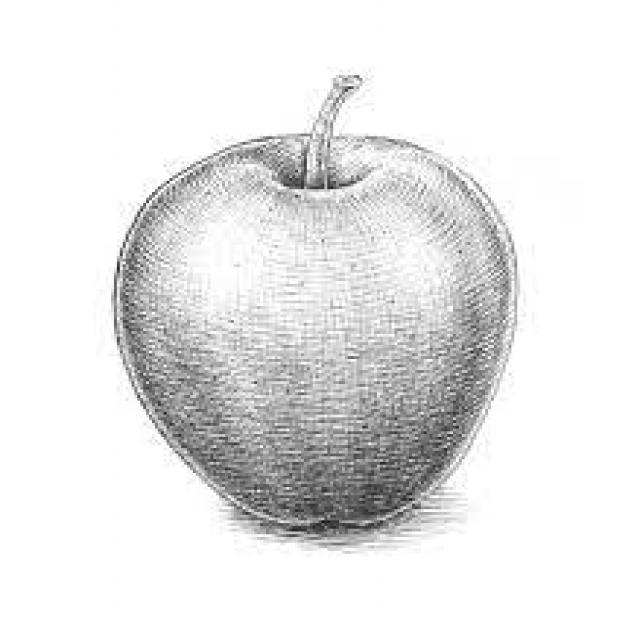Apple: (113, 137, 502, 530)
